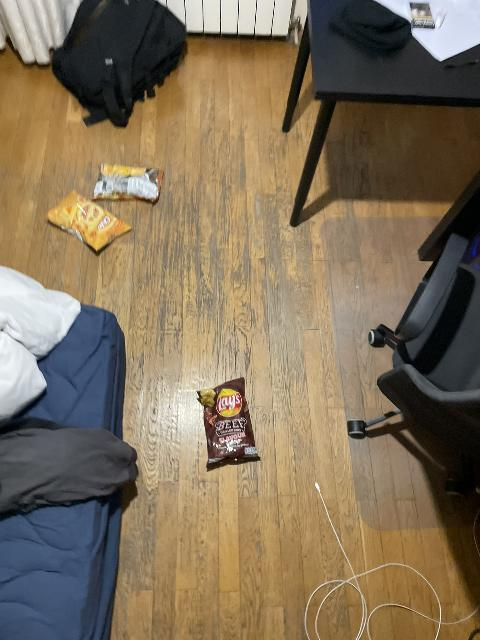Chio Cascaval 125g: (92, 163, 163, 205)
Chio Hula Hoops Cheese 70g: (46, 189, 133, 253)
Lays Beef Grilled Ribs 125g: (199, 378, 263, 469)
